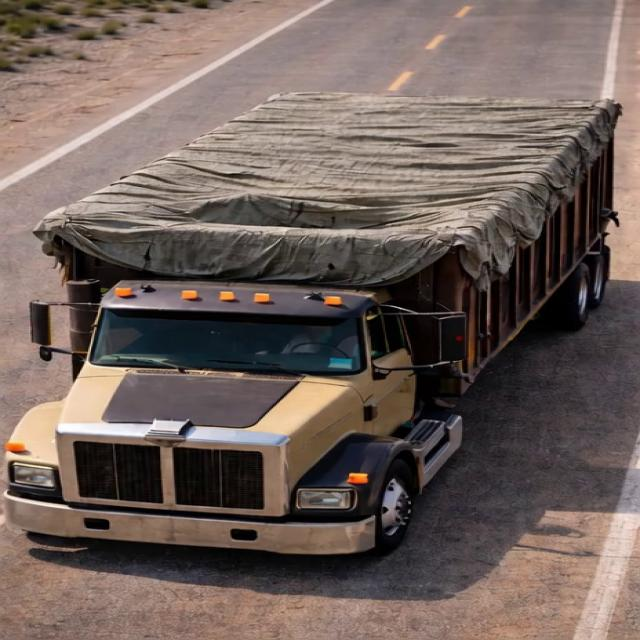Box: (30, 96, 628, 247)
Truck: (6, 72, 631, 554)
